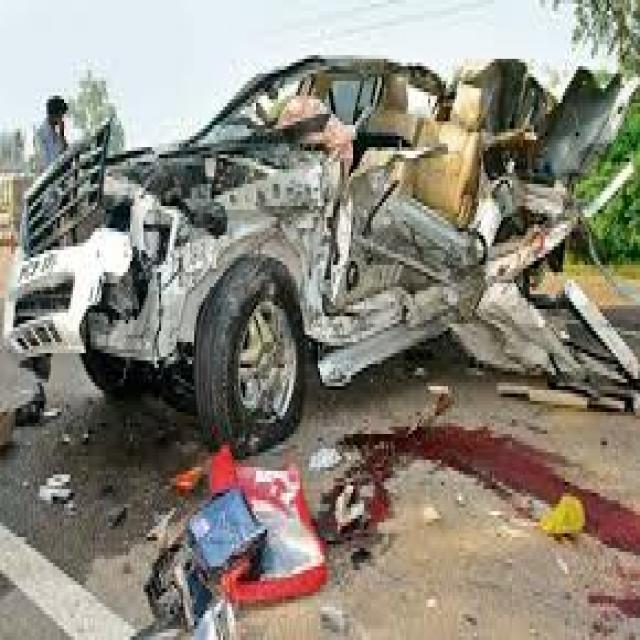accident: (18, 39, 640, 452)
